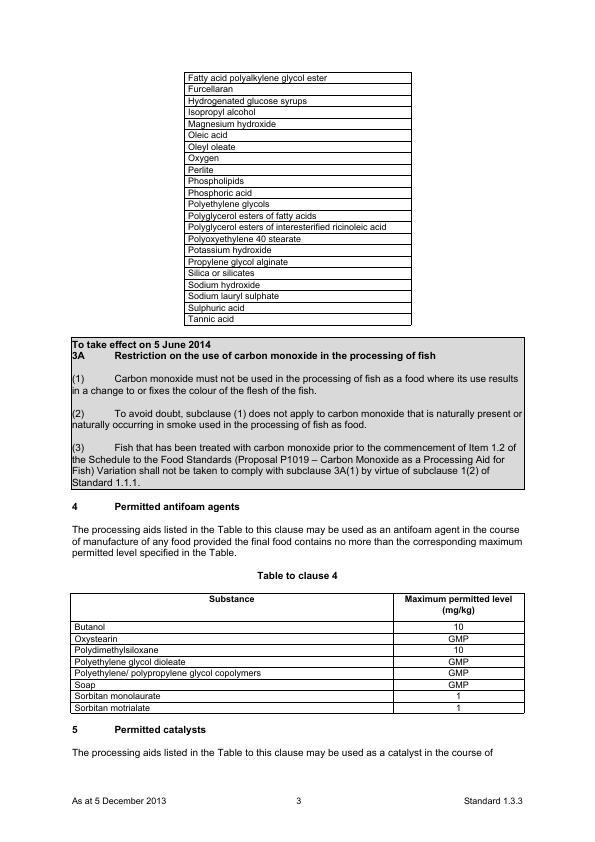table: (177, 66, 421, 327), (65, 590, 530, 719)
text: (69, 335, 526, 490), (67, 499, 531, 565), (68, 723, 499, 761), (251, 565, 343, 584)
